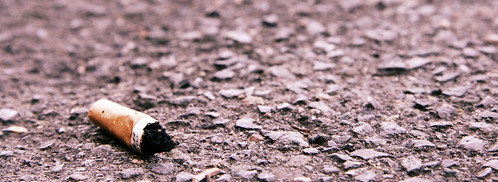cigarette: (83, 96, 180, 159)
